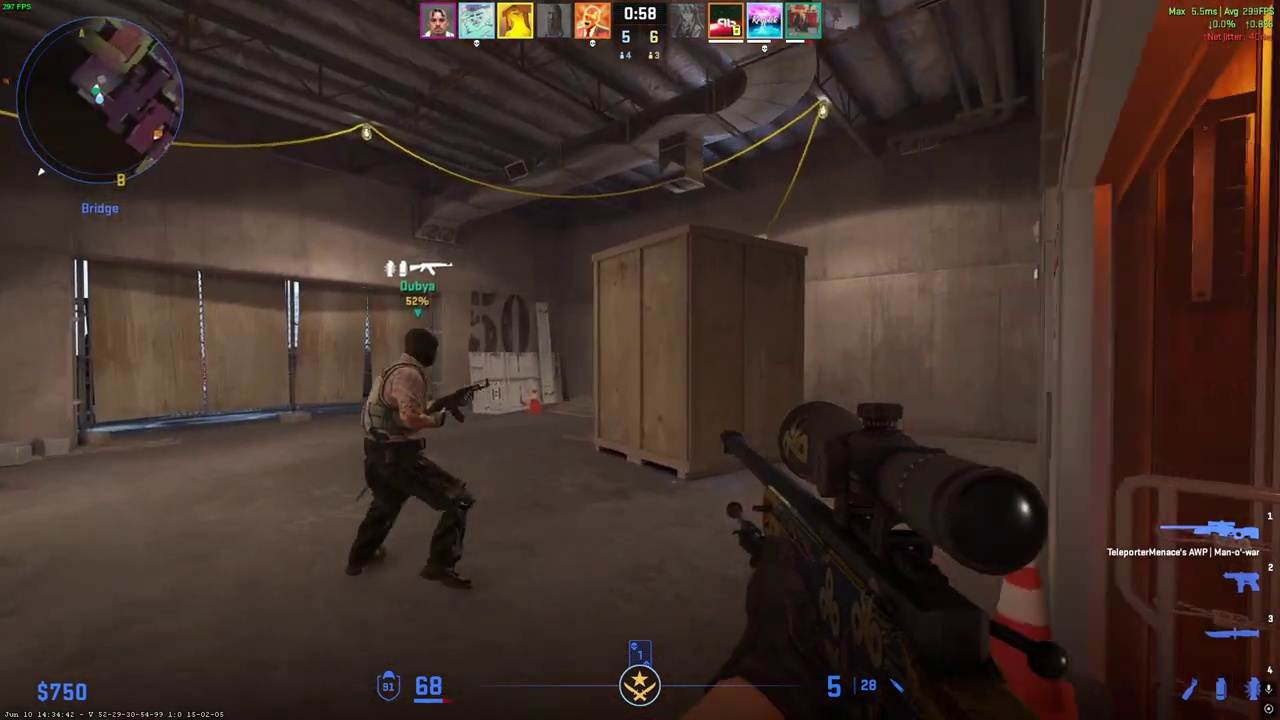Terrorist: (356, 326, 469, 593)
